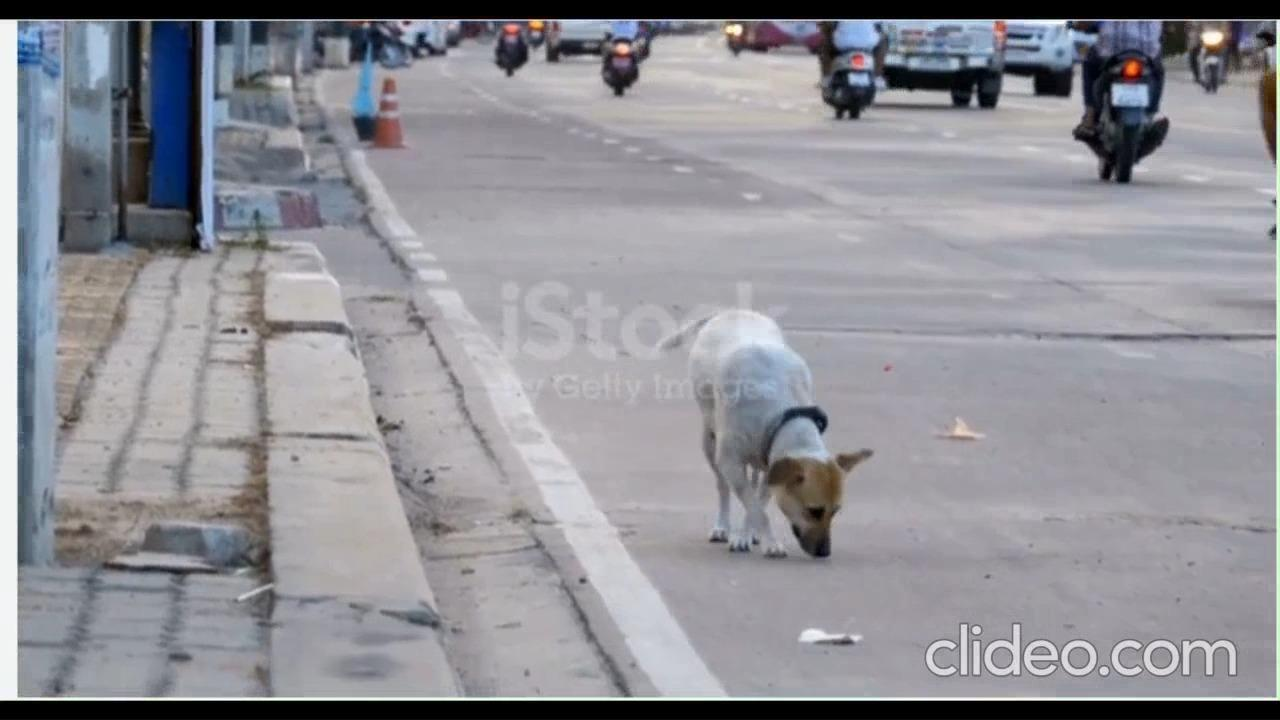dog: (688, 300, 876, 564)
